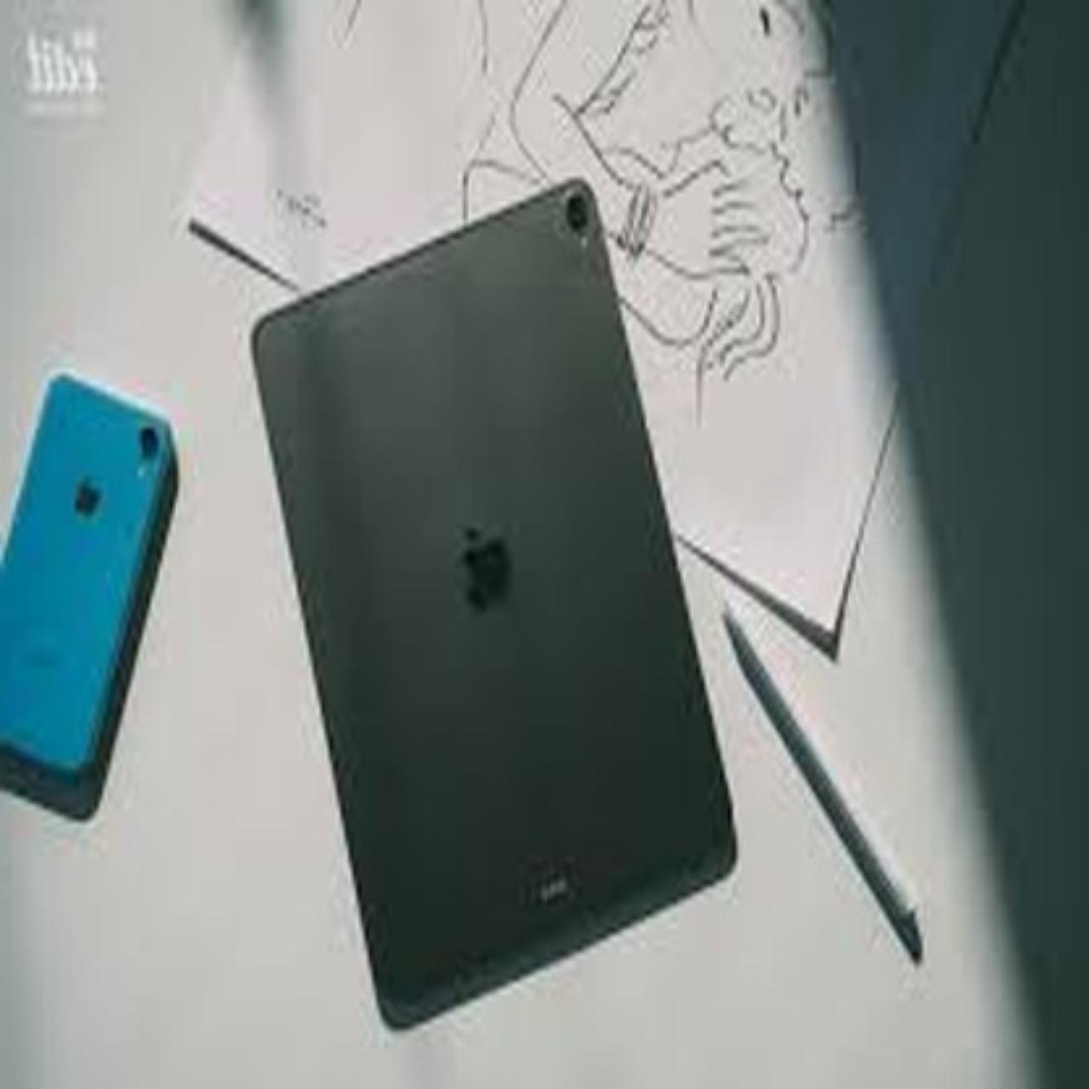Tablet_PC: (231, 170, 746, 1055)
